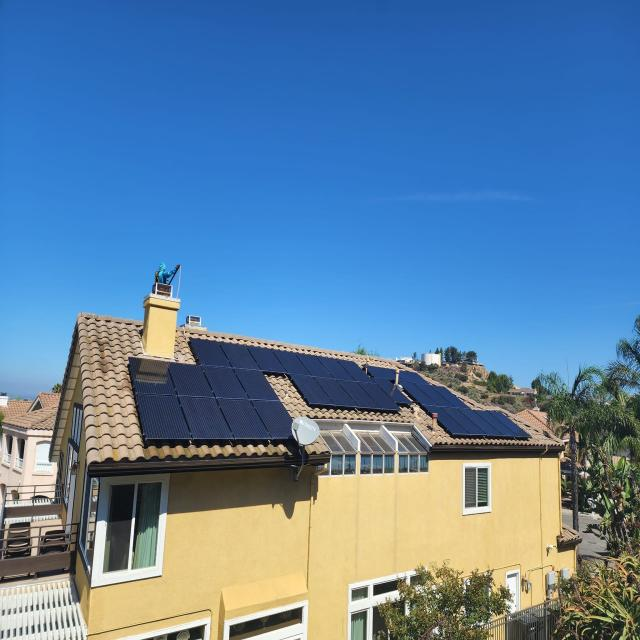clean-solar-panel: (129, 339, 401, 442)
